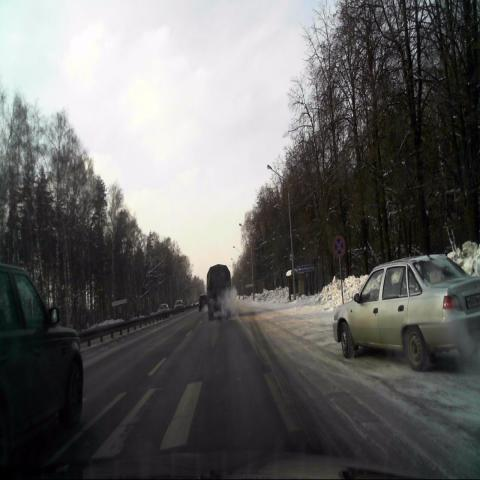3_27: (333, 235, 345, 258)
